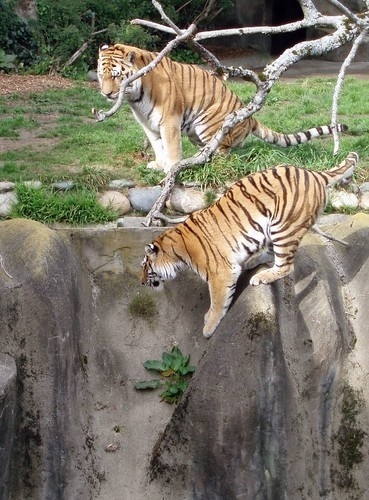tigre: (139, 150, 360, 340), (97, 42, 346, 170)
